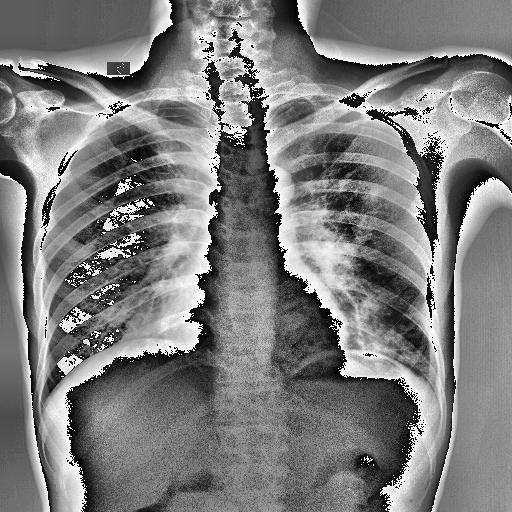11- Pleural thickening: (148, 98, 202, 122), (290, 95, 340, 101)
13- Pulmonary fibrosis: (304, 172, 435, 380)
6- Infiltration: (304, 172, 435, 380), (320, 242, 426, 372)
7- Lung Opacity: (346, 284, 426, 373)
8- Nodule-Mass: (346, 284, 426, 373)
